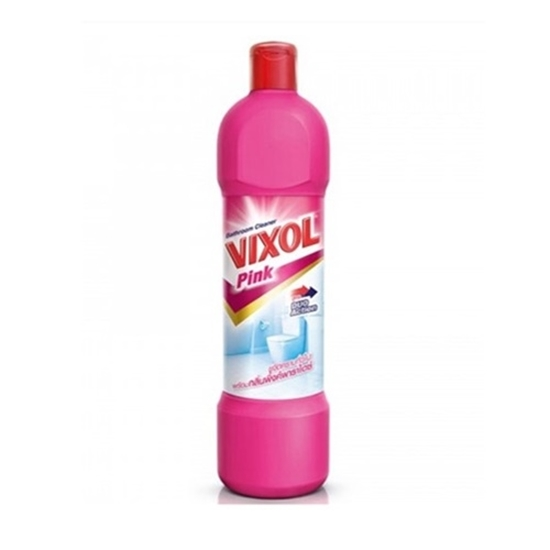Cleaning_solution: (212, 35, 337, 507)
